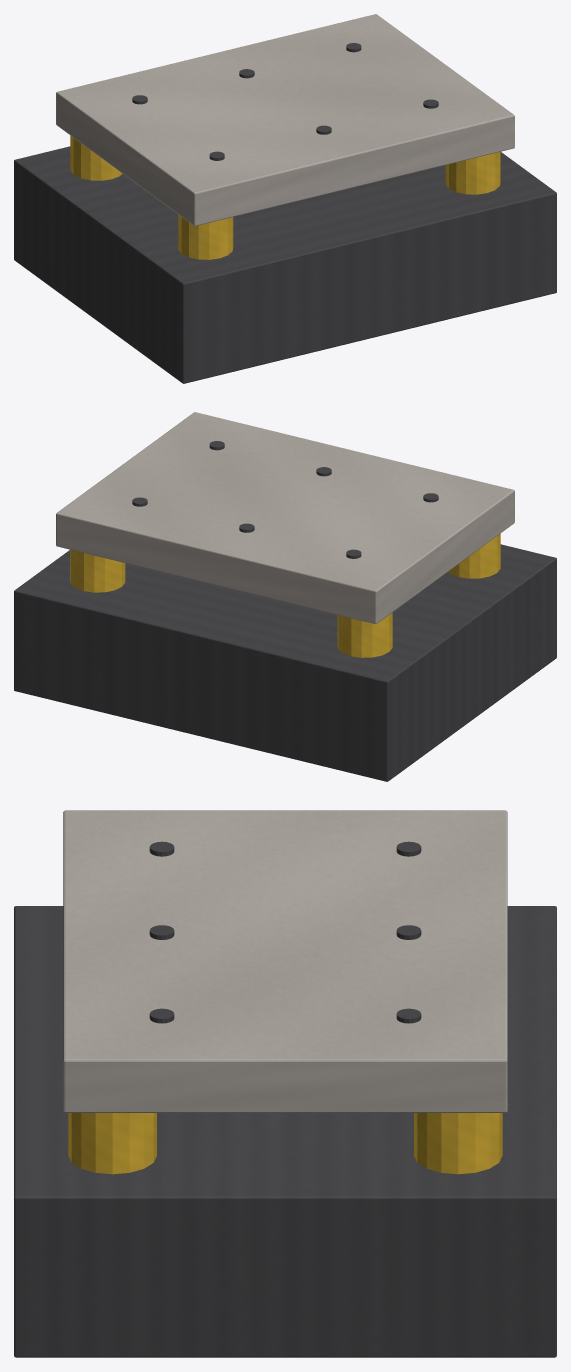
File: vibration_test_stand.glb
The picture shows the model from 3 angles, top to bottom: view 1: azimuth 30°, elevation 25°; view 2: azimuth 150°, elevation 25°; view 3: azimuth 270°, elevation 25°; orthographic projection. The views are drawn at different scales.
Parts seen in each view (by area): view 1: base.021, shaker_table, isolation_mount, isolation_mount.002, isolation_mount.001; view 2: base.021, shaker_table, isolation_mount.001, isolation_mount.003, isolation_mount; view 3: base.021, shaker_table, isolation_mount.002, isolation_mount.003.
Part boxes in pixels (bbox=[...]): base.021: bbox=[14, 146, 556, 383]; shaker_table: bbox=[56, 14, 514, 226]; isolation_mount: bbox=[178, 214, 233, 259]; isolation_mount.002: bbox=[445, 152, 500, 194]; isolation_mount.001: bbox=[70, 135, 122, 180]; base.021: bbox=[14, 544, 556, 781]; shaker_table: bbox=[56, 412, 514, 624]; isolation_mount.001: bbox=[337, 612, 392, 657]; isolation_mount.003: bbox=[70, 550, 125, 592]; isolation_mount: bbox=[448, 533, 500, 578]; base.021: bbox=[14, 906, 556, 1357]; shaker_table: bbox=[63, 810, 507, 1112]; isolation_mount.002: bbox=[68, 1113, 156, 1174]; isolation_mount.003: bbox=[414, 1113, 502, 1174].
Size of the model in its own units: 1.4 by 0.63 by 1.1.
Materials: 3 (3 with a texture image).
